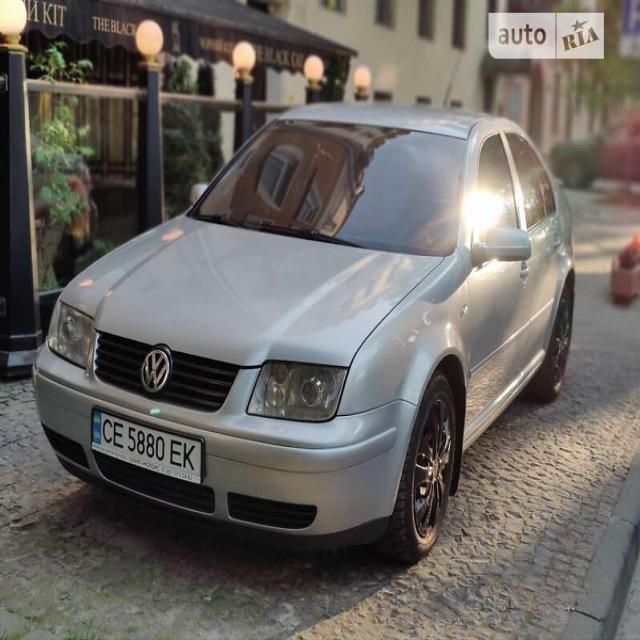plate: (84, 404, 220, 499)
